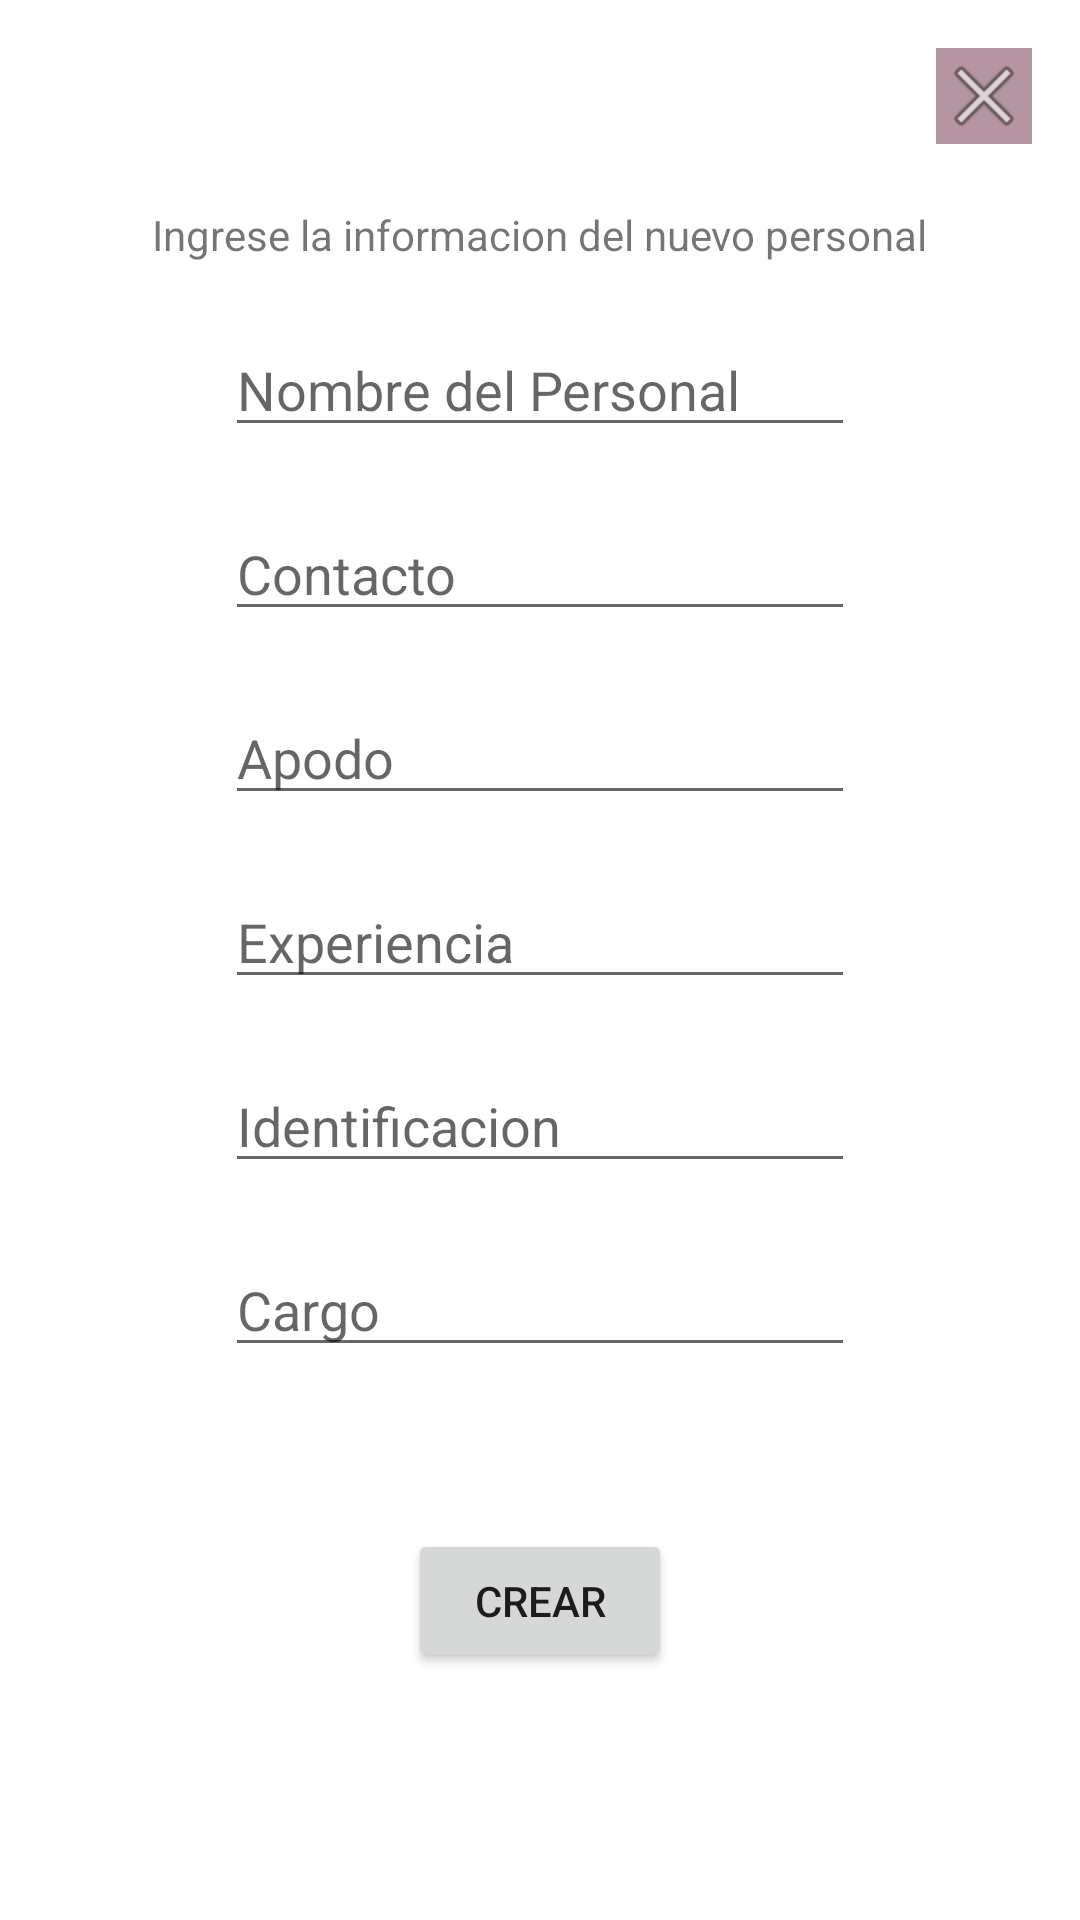

Named icons in this screenshot (1080px x 1920px) and their centers, (x,y):
close clear cancel: (984,96)
